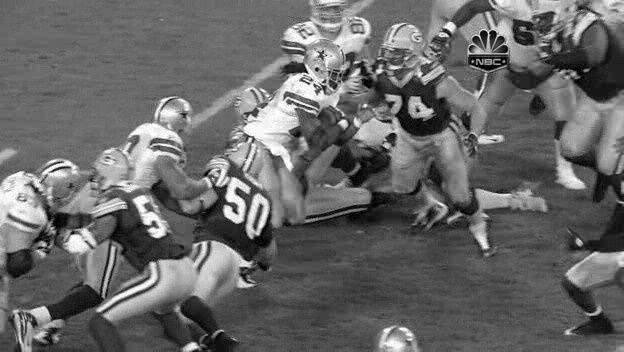person: (312, 43, 347, 87), (311, 43, 346, 87), (313, 43, 348, 87), (312, 42, 347, 86), (312, 44, 347, 88)
target_negative: (132, 177, 433, 219), (122, 39, 188, 212), (158, 107, 209, 146), (592, 219, 612, 262), (602, 280, 619, 326), (64, 350, 529, 351)
